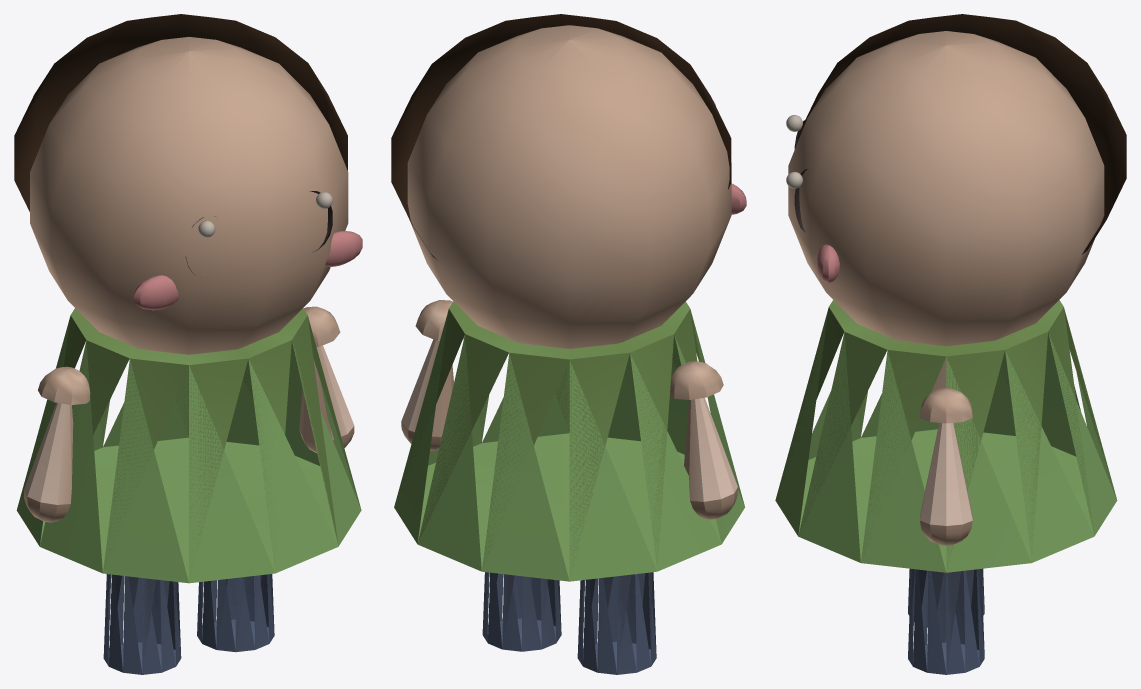
3 views of the same model, side by side, from view 1: azimuth 30°, elevation 25°; view 2: azimuth 150°, elevation 25°; view 3: azimuth 270°, elevation 25° (orthographic). The views are drawn at different scales.
Visible parts, largest first — view 1: pet_p9c96b431; view 2: pet_p9c96b431; view 3: pet_p9c96b431.
Part boxes in pixels (x1,y1,x2,y2): pet_p9c96b431: (14,14,362,674); pet_p9c96b431: (391,14,746,674); pet_p9c96b431: (775,14,1126,674).
Size of the model in its own units: 0.3464 by 0.625 by 0.3287.
